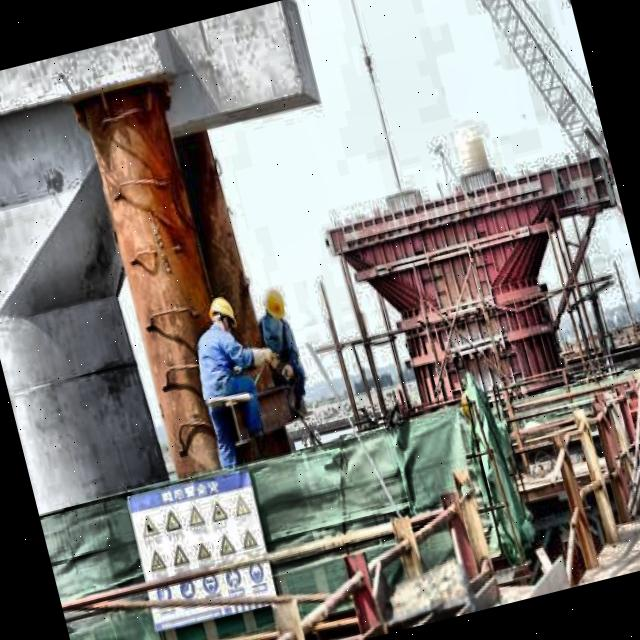helmet: (202, 286, 242, 341), (259, 284, 288, 324)
